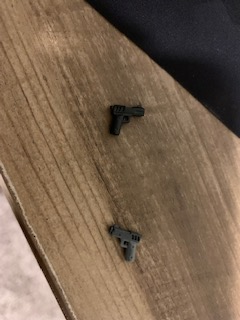pistol: (104, 221, 147, 267), (104, 100, 144, 141)
